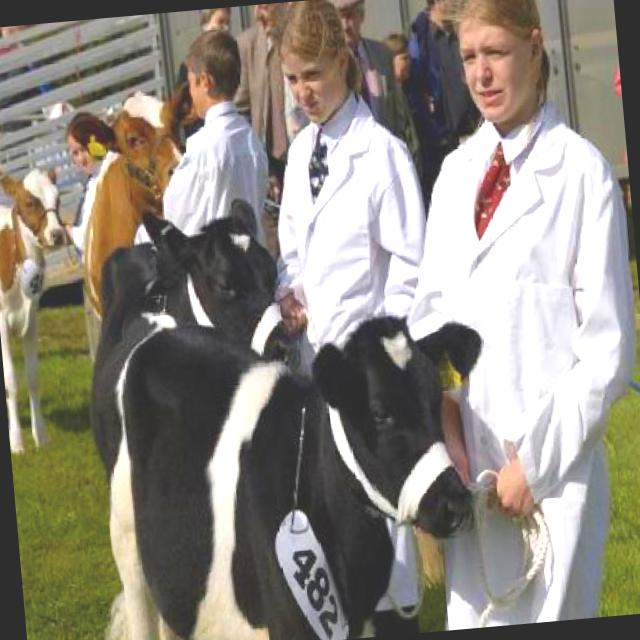Person: (379, 0, 640, 629), (254, 0, 463, 639), (146, 26, 275, 264), (54, 107, 125, 258), (384, 27, 426, 155)
